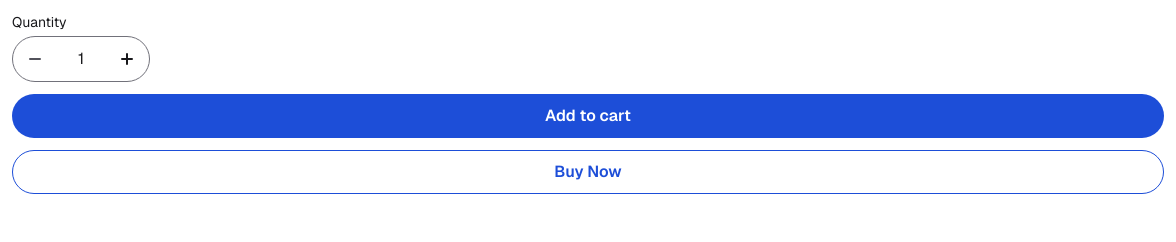
Test: AddToCartForm v2: Buy Now › Buy Now error replaces an earlier Add success message
Click the button "Add to cart" at point(588, 116), box [12,94,1164,138]
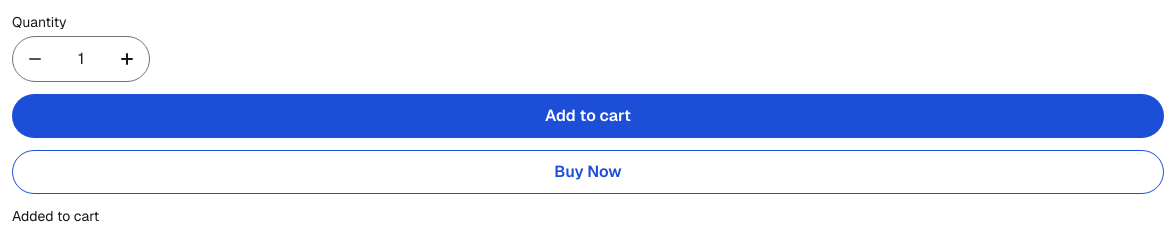
Expected: the text "Added to cart" is shown, [12,207,99,225]
Click the button "Buy Now" at point(588, 172), box [12,150,1164,194]
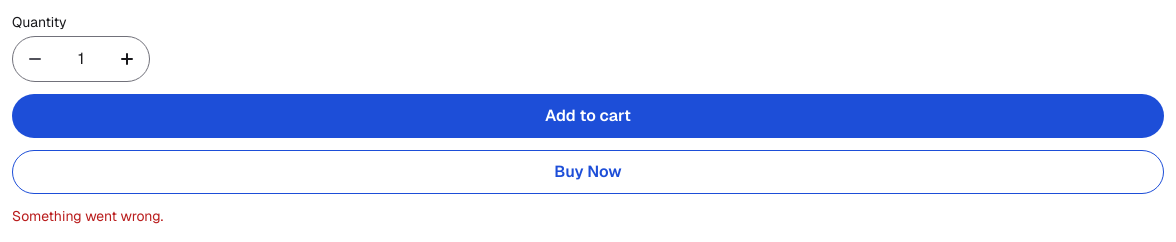
Expected: the message reads "Something went wrong.", [12,207,163,225]
